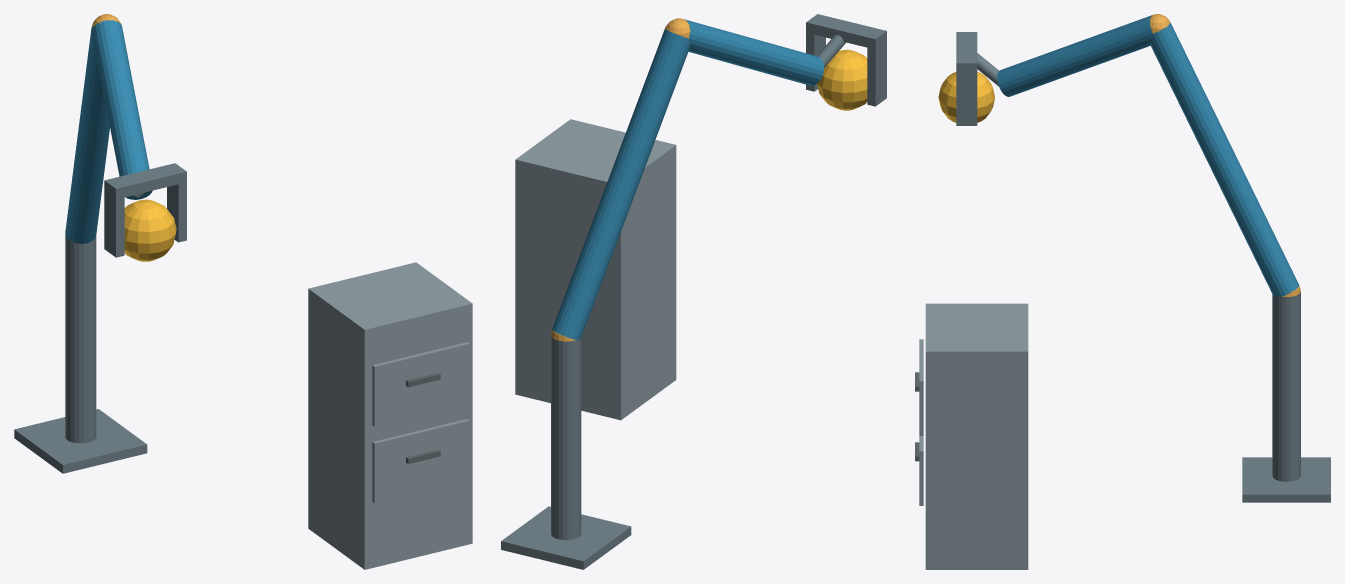
The picture shows the model from 3 angles, left to right: view 1: azimuth 30°, elevation 25°; view 2: azimuth 150°, elevation 25°; view 3: azimuth 270°, elevation 25°; orthographic projection. The views are drawn at different scales.
Visible parts, largest first — view 1: cabinet_1 body, fixed post, cabinet_1 drawer front.001, cabinet_1 drawer front, moving link 1, moving link 2, pedestal, ball ball_1, gripper bridge, gripper finger -1, gripper finger 1; view 2: cabinet_1 body, moving link 1, fixed post, moving link 2, pedestal, ball ball_1, gripper bridge, gripper finger -1; view 3: cabinet_1 body, moving link 1, fixed post, moving link 2, pedestal, ball ball_1, gripper finger 1, gripper bridge.
Boxes of the visible parts, box(x1,y1,x2,y2) form: cabinet_1 body: box(308, 262, 472, 569); fixed post: box(65, 235, 96, 443); cabinet_1 drawer front.001: box(372, 342, 469, 426); cabinet_1 drawer front: box(372, 419, 469, 503); moving link 1: box(65, 26, 109, 243); moving link 2: box(91, 20, 152, 199); pedestal: box(14, 409, 147, 473); ball ball_1: box(124, 199, 176, 261); gripper bridge: box(104, 163, 186, 199); gripper finger -1: box(104, 191, 124, 257); gripper finger 1: box(167, 182, 186, 242); cabinet_1 body: box(515, 119, 676, 420); moving link 1: box(552, 28, 689, 340); fixed post: box(551, 335, 581, 540); moving link 2: box(684, 19, 824, 85); pedestal: box(501, 506, 631, 569); ball ball_1: box(817, 49, 867, 110); gripper bridge: box(806, 14, 886, 49); gripper finger -1: box(867, 41, 886, 106); cabinet_1 body: box(925, 303, 1028, 569); moving link 1: box(1150, 22, 1299, 296); fixed post: box(1272, 291, 1300, 481); moving link 2: box(997, 14, 1153, 96); pedestal: box(1242, 457, 1330, 502); ball ball_1: box(938, 72, 994, 122); gripper finger 1: box(956, 73, 977, 125); gripper bridge: box(956, 32, 977, 72).
Size of the model in its own units: 1.01 by 1.4 by 1.17.
